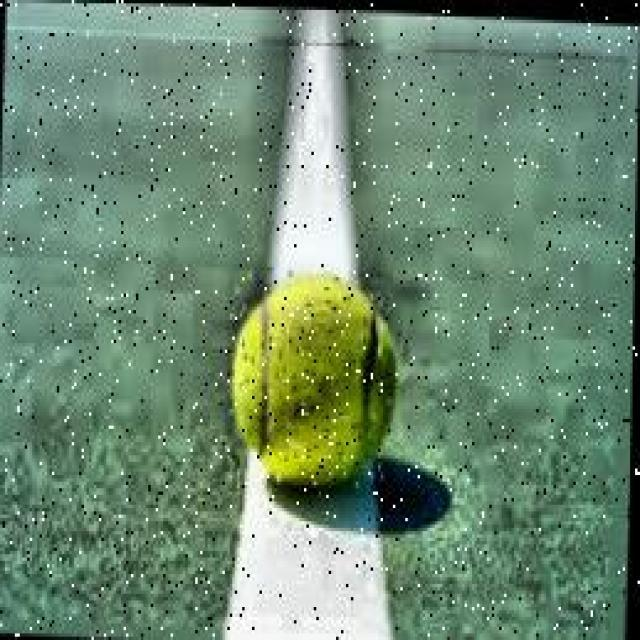tennis-ball: (223, 266, 406, 500)
